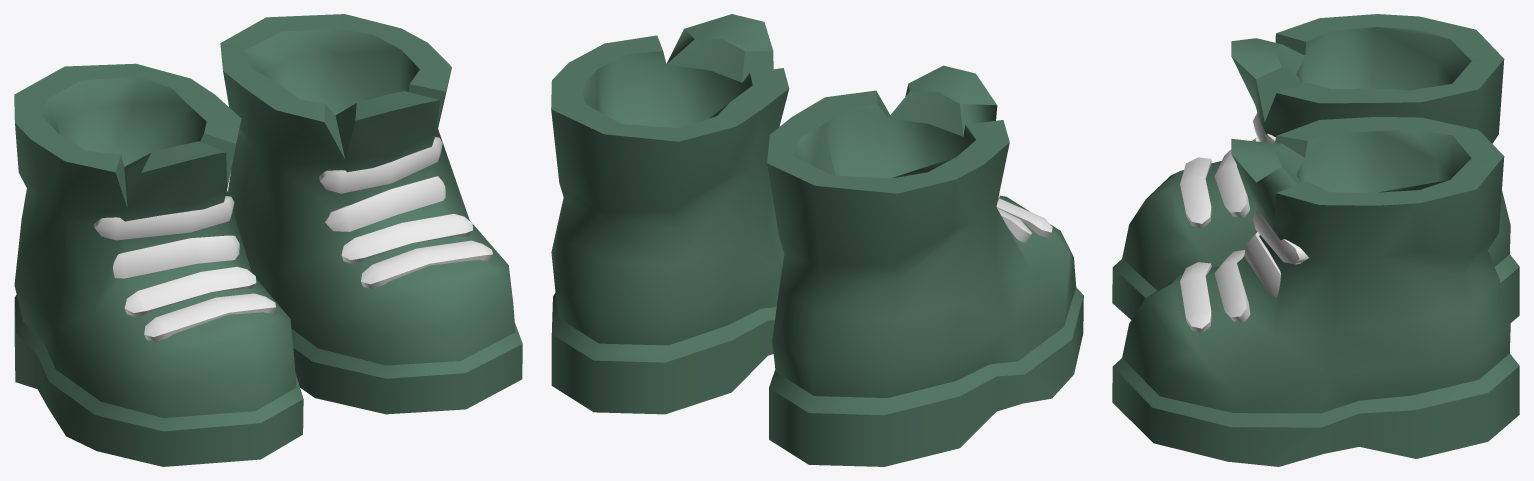
File: Shoe_03.fbx
3 renders of one model, left to right at view 1: azimuth 30°, elevation 25°; view 2: azimuth 150°, elevation 25°; view 3: azimuth 270°, elevation 25°, orthographic. The views are drawn at different scales.
Visible parts, largest first — view 1: Shoes_31; view 2: Shoes_31; view 3: Shoes_31.
Part boxes in pixels (<box>): Shoes_31: <box>14,14,522,466</box>; Shoes_31: <box>551,14,1083,466</box>; Shoes_31: <box>1112,14,1519,466</box>.
Bounding box in the file's own units: 43.1 × 26.12 × 36.04.
